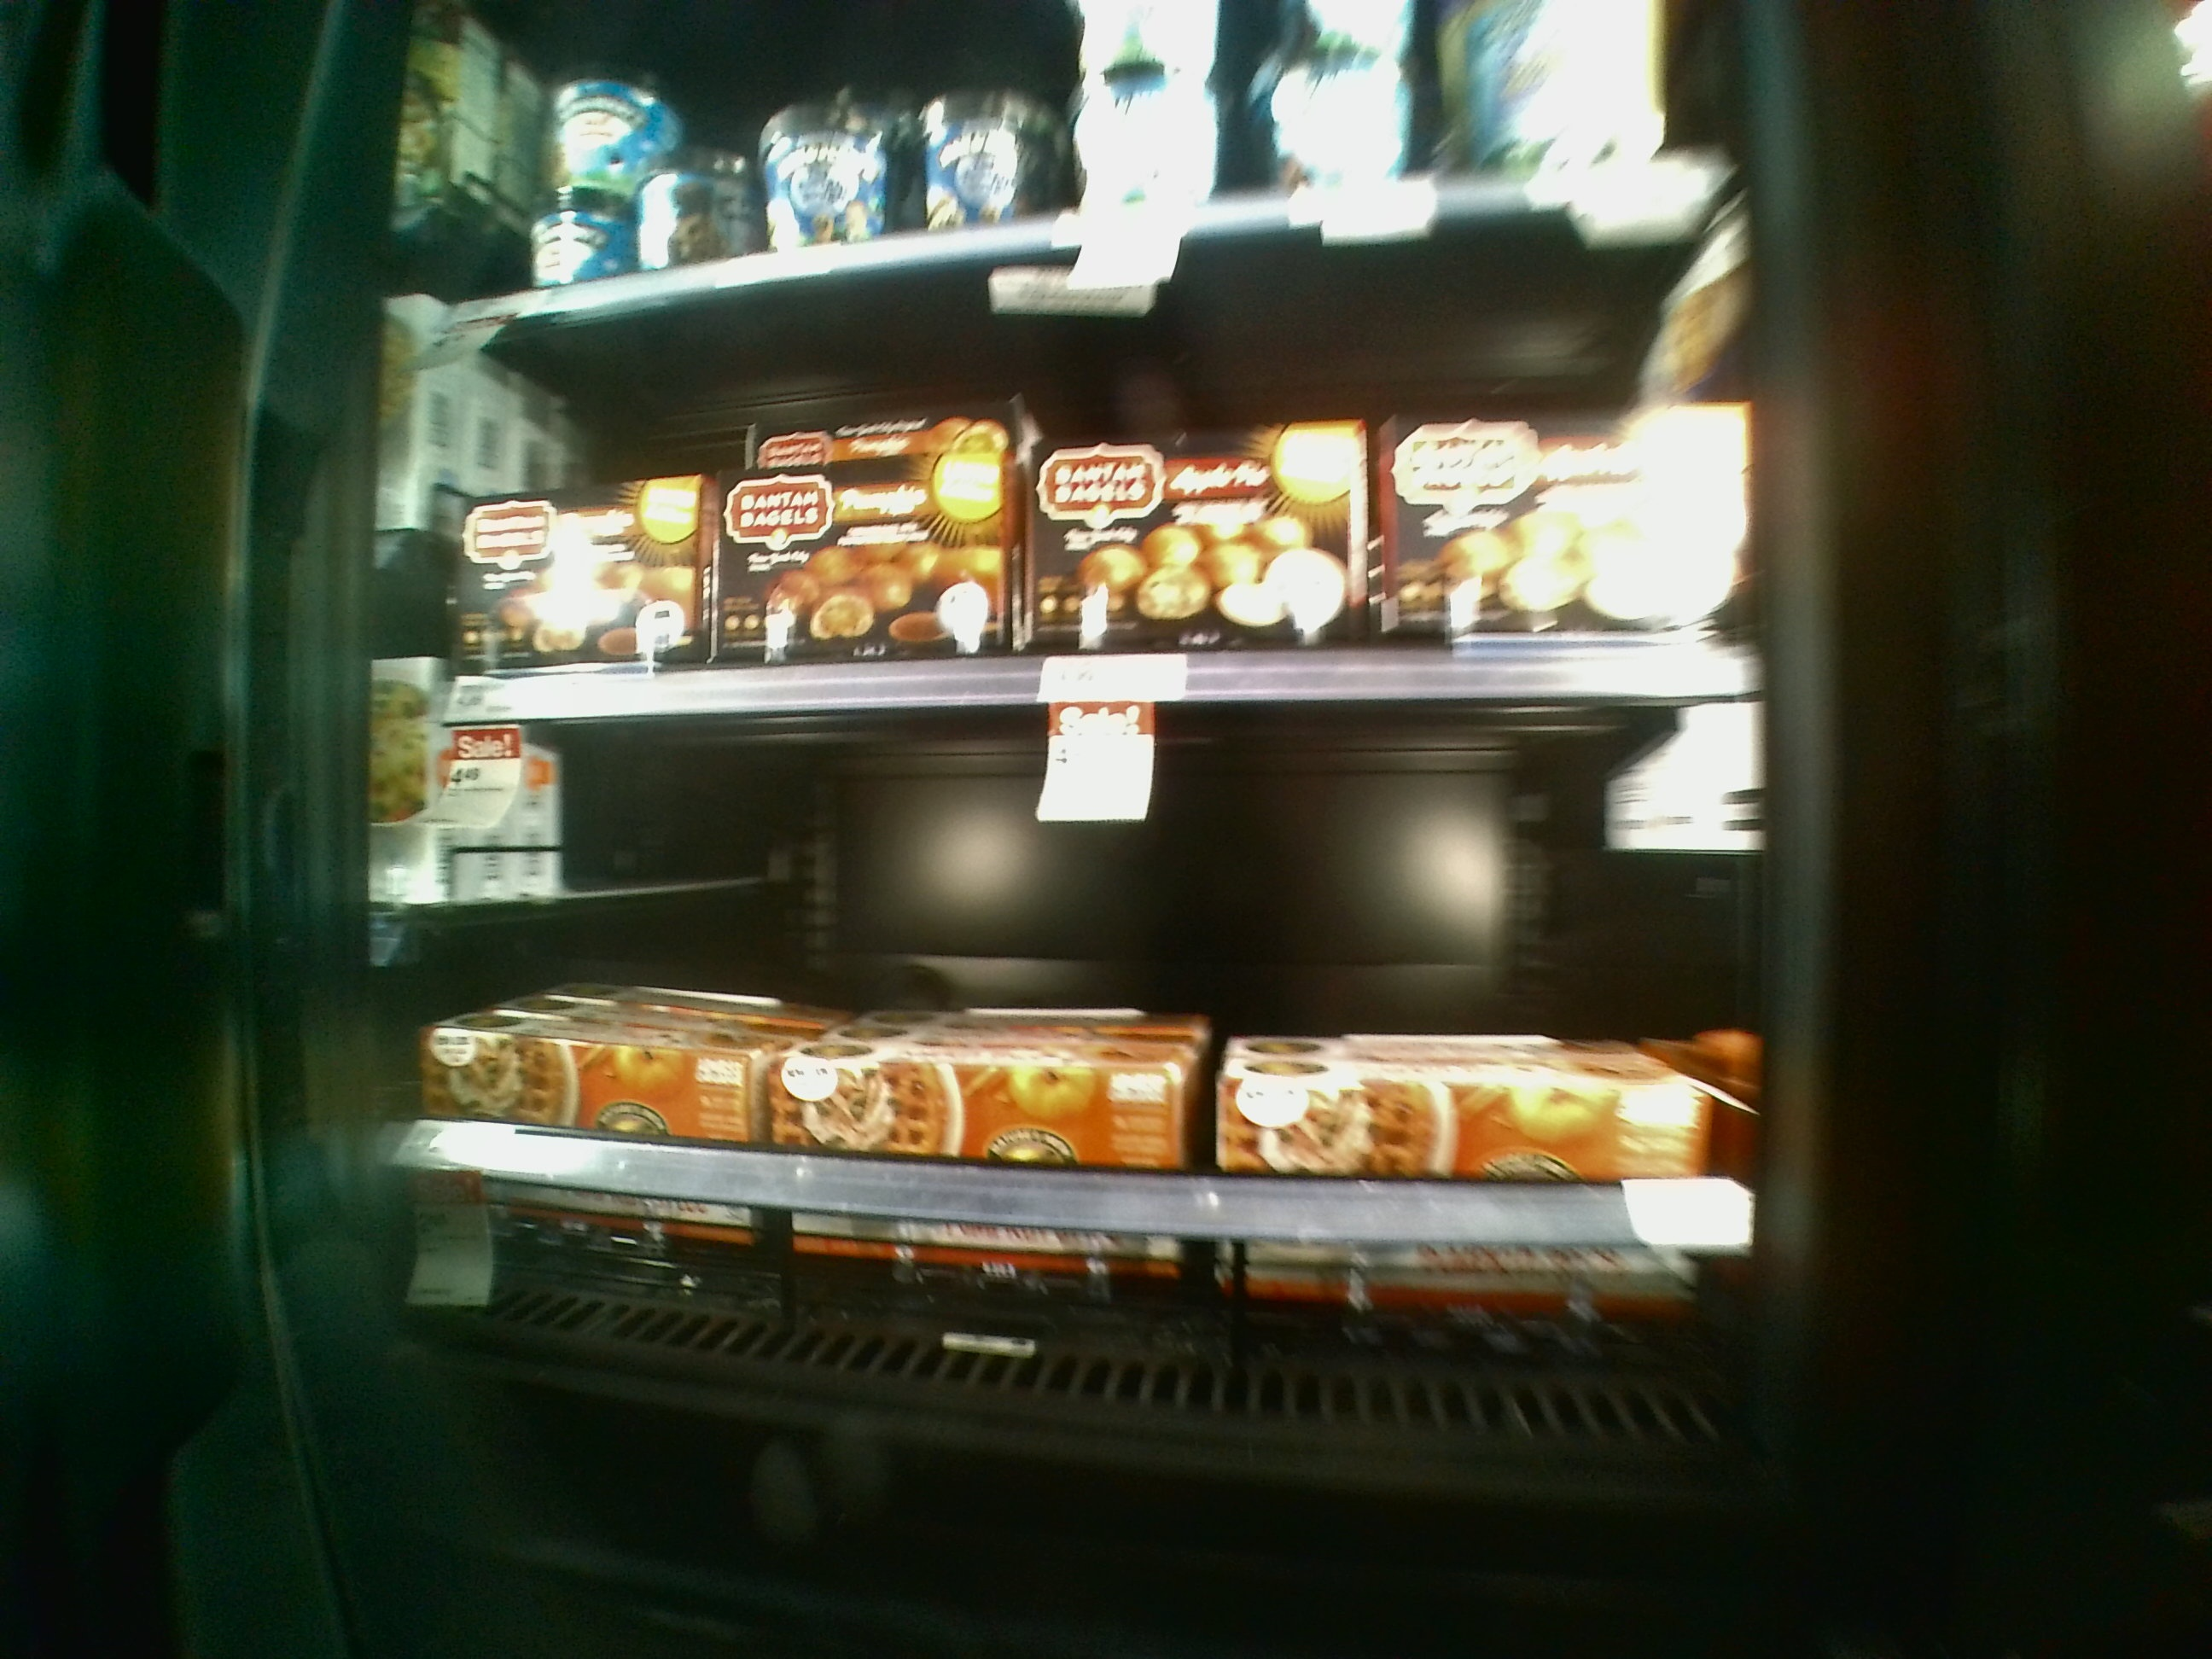shelf: (455, 701, 1742, 1453), (462, 296, 1752, 688)
